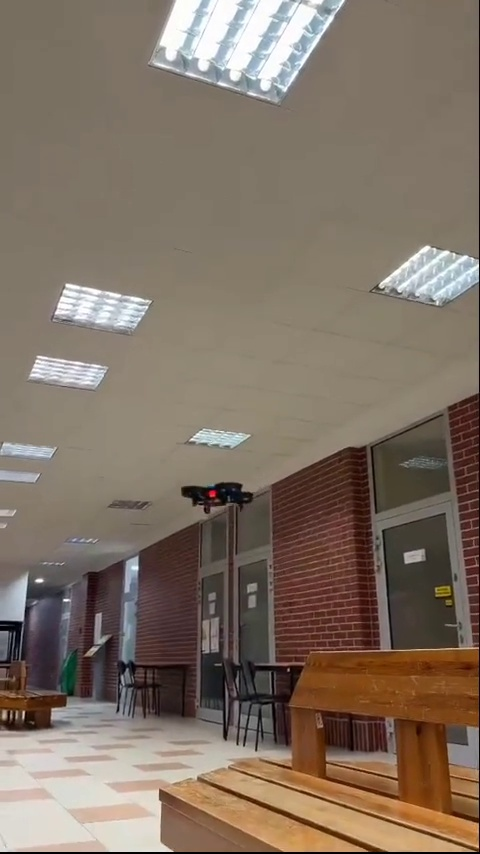drone: (177, 482, 259, 509)
